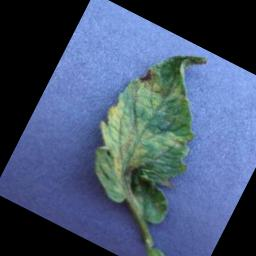Leaf_Mold: (70, 28, 237, 227)
